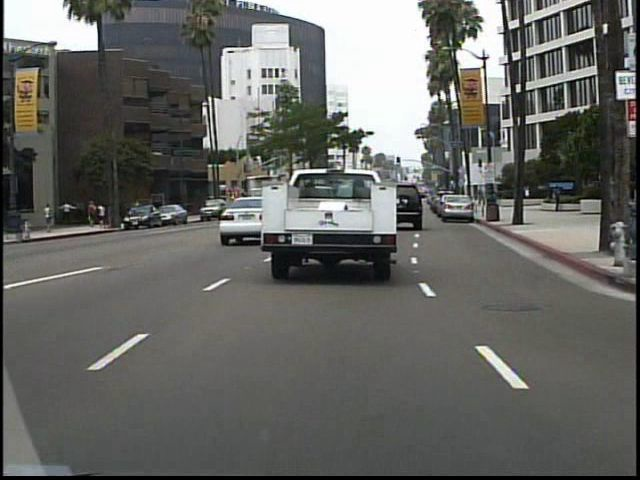person: (46, 200, 59, 236), (551, 183, 564, 214)
